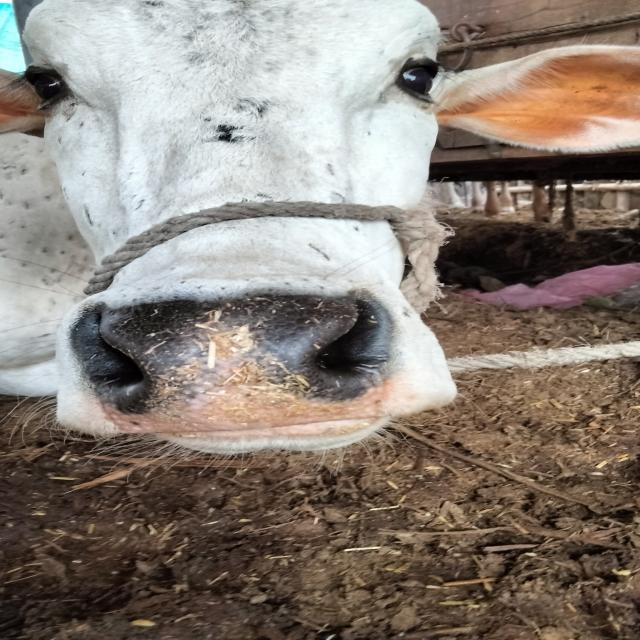muzzles: (50, 284, 425, 445)
